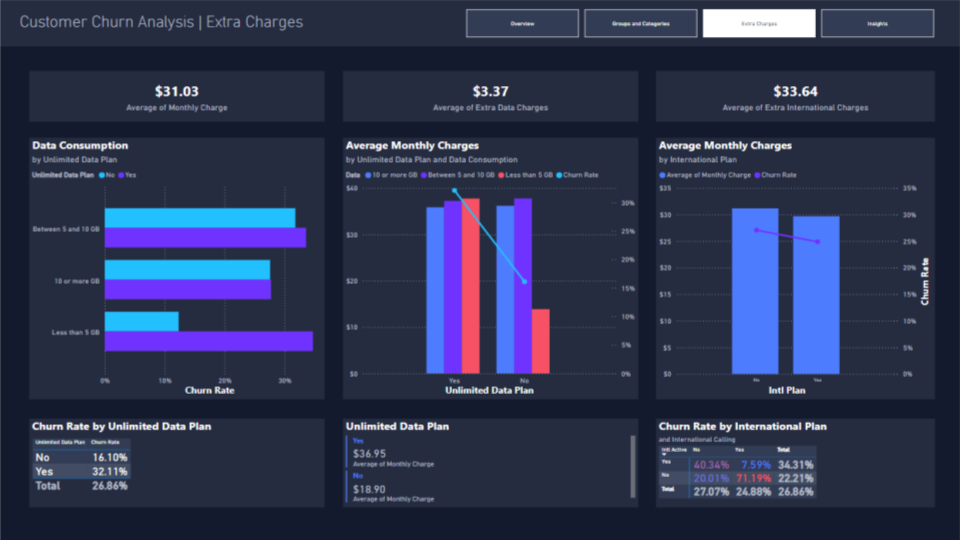

This screenshot's page, from the dashboard's own definition file:
{"tool":"powerbi","page":{"name":"Extra Charges","canvas":[1640,960],"ordinal":2},"visuals":[{"type":"clusteredBarChart","title":"Data Consumption","fields":{"Category":["Databel - Data.Grouped Consumption"],"Y":["_Measures.Churn Rate"],"Series":["Databel - Data.Unlimited Data Plan"]},"box":[50,244.4,504.2,462.5],"z":0},{"type":"card","title":"No International Plan","fields":{"Values":["Avg(Databel - Data.Extra International Charges)"]},"box":[1119.4,126.4,476.4,90.3],"z":1000},{"type":"card","title":"No Unlimited Data Plan","fields":{"Values":["Avg(Databel - Data.Extra Data Charges)"]},"box":[586.1,126.4,504.2,90.3],"z":2000},{"type":"shape","box":[0,0,1640.2,83.1],"z":3000},{"type":"textbox","box":[29.2,16.7,525,56.9],"z":4000},{"type":"tableEx","title":"Churn Rate by Unlimited Data Plan","fields":{"Values":["Databel - Data.Unlimited Data Plan","_Measures.Churn Rate"]},"box":[50,741.7,504.2,156.9],"z":5000},{"type":"pivotTable","title":"Churn Rate by International Plan","fields":{"Rows":["Databel - Data.Intl Active"],"Columns":["Databel - Data.Intl Plan"],"Values":["_Measures.Churn Rate"]},"box":[1119.4,741.7,476.4,156.9],"z":6000},{"type":"multiRowCard","title":"Unlimited Data Plan","fields":{"Values":["Avg(Databel - Data.Monthly Charge)","Databel - Data.Unlimited Data Plan"]},"box":[586.1,741.7,504.2,156.9],"z":7000},{"type":"lineClusteredColumnComboChart","title":"Average Monthly Charges","fields":{"Category":["Databel - Data.Unlimited Data Plan"],"Y2":["_Measures.Churn Rate"],"Series":["Databel - Data.Grouped Consumption"],"Y":["Avg(Databel - Data.Monthly Charge)"]},"box":[586.1,244.4,504.2,462.5],"z":8000},{"type":"card","title":"Customers Monthly Charges","fields":{"Values":["Avg(Databel - Data.Monthly Charge)"]},"box":[50,126.4,504.2,90.3],"z":9000},{"type":"lineClusteredColumnComboChart","title":"Average Monthly Charges","fields":{"Y":["Avg(Databel - Data.Monthly Charge)"],"Category":["Databel - Data.Intl Plan"],"Y2":["_Measures.Churn Rate"]},"box":[1119.4,244.4,476.4,462.5],"z":10000},{"type":"pageNavigator","box":[795.8,16.7,800,50],"z":11000}]}

Visuals, with their boxes on the page's 1640x960 design canvas (x1, y1, x2, y2). These are canvas units, not pixel positions in the 960x540 screenshot, which may show the page scaled, cropped or inside an application window:
"Data Consumption" clusteredBarChart: (50,244,554,707)
"No International Plan" card: (1119,126,1596,217)
"No Unlimited Data Plan" card: (586,126,1090,217)
shape: (0,0,1640,83)
textbox: (29,17,554,74)
"Churn Rate by Unlimited Data Plan" tableEx: (50,742,554,899)
"Churn Rate by International Plan" pivotTable: (1119,742,1596,899)
"Unlimited Data Plan" multiRowCard: (586,742,1090,899)
"Average Monthly Charges" lineClusteredColumnComboChart: (586,244,1090,707)
"Customers Monthly Charges" card: (50,126,554,217)
"Average Monthly Charges" lineClusteredColumnComboChart: (1119,244,1596,707)
pageNavigator: (796,17,1596,67)
